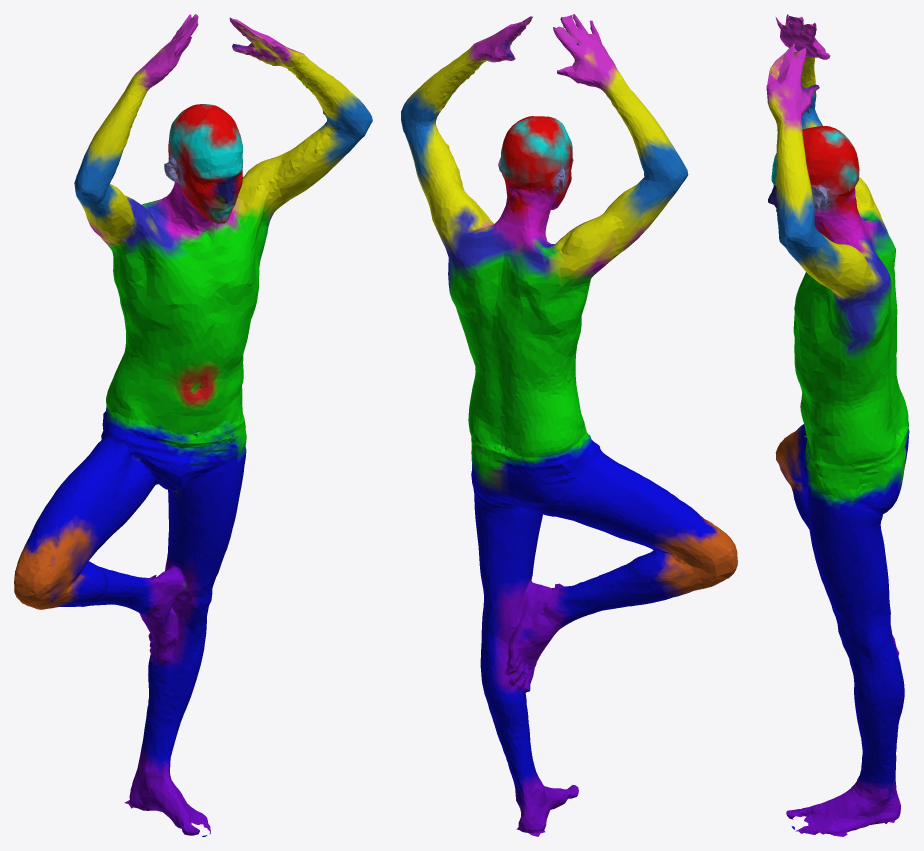
3 renders of one model, left to right at view 1: azimuth 30°, elevation 25°; view 2: azimuth 150°, elevation 25°; view 3: azimuth 270°, elevation 25°, orthographic. The views are drawn at different scales.
Visible parts, largest first — view 1: 7; view 2: 7; view 3: 7.
Boxes of the visible parts, x1,y1,x2,y2 form: 7: (14, 14, 372, 836); 7: (401, 14, 737, 836); 7: (766, 14, 909, 836).
Size of the model in its own units: 0.9144 by 2.04 by 0.3267.
